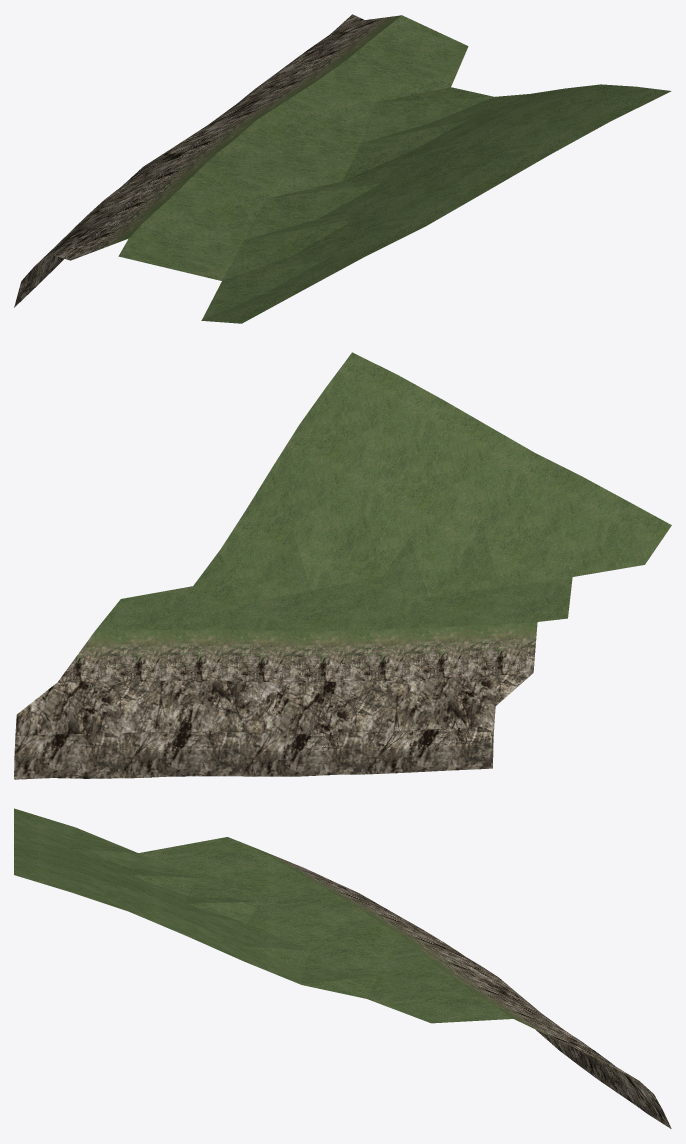
Rendered from a_carisle_mid_landmass_02_09.fbx.
The picture shows the model from 3 angles, top to bottom: view 1: azimuth 30°, elevation 25°; view 2: azimuth 150°, elevation 25°; view 3: azimuth 270°, elevation 25°; orthographic projection. The views are drawn at different scales.
Parts seen in each view (by area): view 1: a_carisle_mid_landmass_02_09; view 2: a_carisle_mid_landmass_02_09; view 3: a_carisle_mid_landmass_02_09.
Boxes of the visible parts, x1=… form: a_carisle_mid_landmass_02_09: x1=14, y1=14, x2=671, y2=323; a_carisle_mid_landmass_02_09: x1=14, y1=352, x2=671, y2=779; a_carisle_mid_landmass_02_09: x1=14, y1=808, x2=671, y2=1128.
Bounding box in the file's own units: 16.5 × 23.28 × 9.19.
